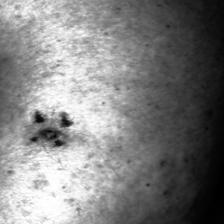Benign Marking or Mole: (38, 126, 62, 142)
